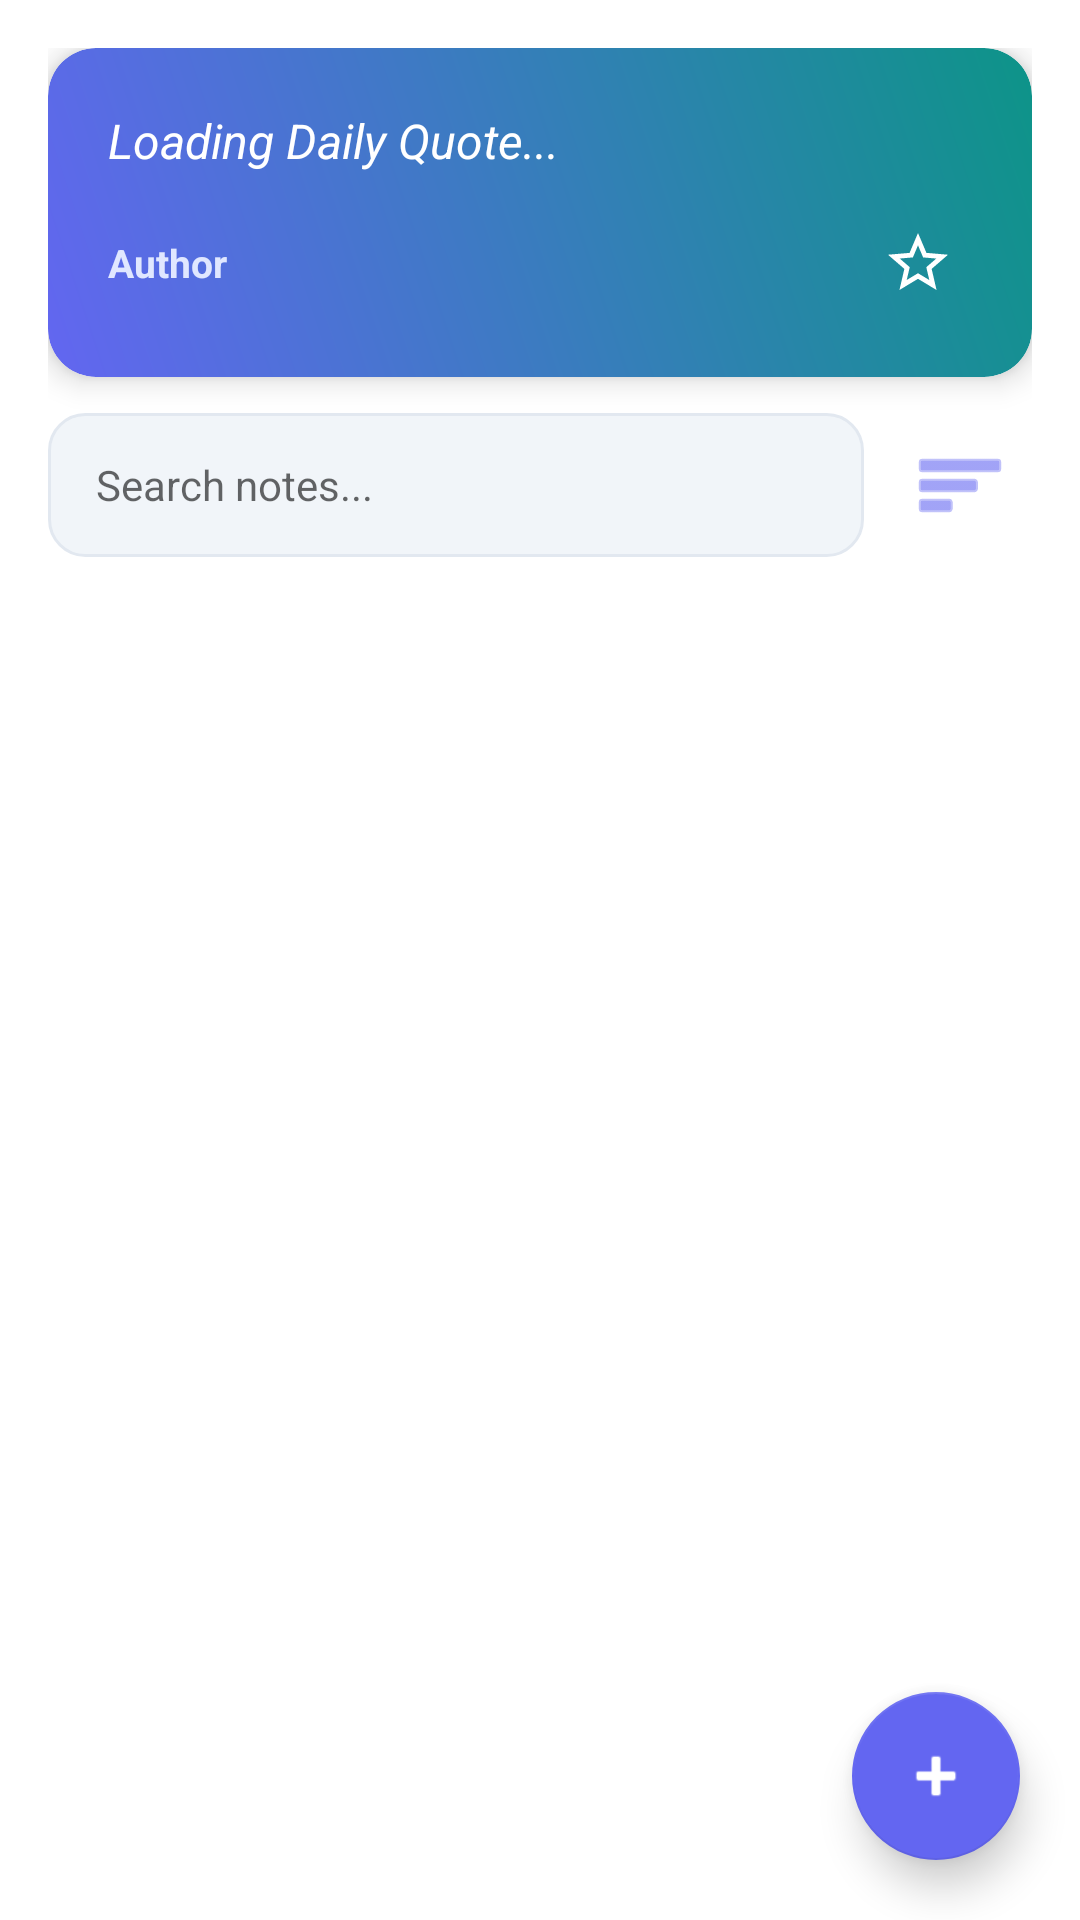

Point at icon controls on the screen. Image size 1080px x 1920px, points as (x=x, y=y).
Add Note: (x=936, y=1776)
Favorite Quote Button: (x=918, y=261)
Sort Notes: (x=960, y=485)
